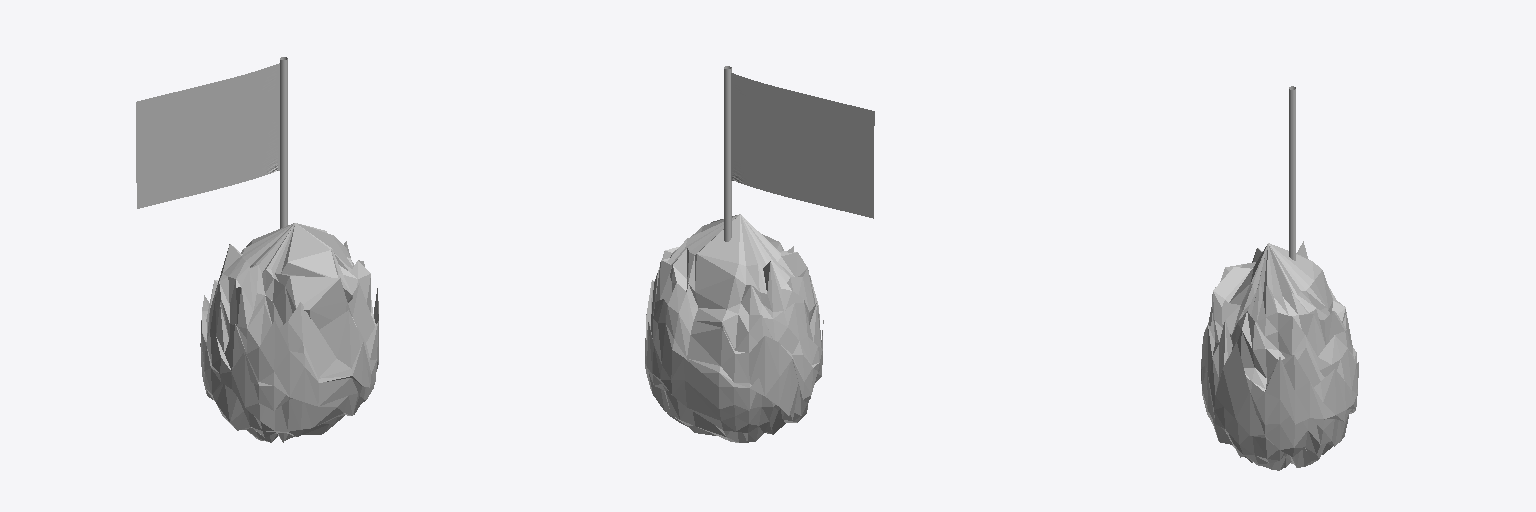
Rendered from rockflag.obj.
3 renders of one model, left to right at view 1: azimuth 30°, elevation 25°; view 2: azimuth 150°, elevation 25°; view 3: azimuth 270°, elevation 25°, orthographic.
Visible parts, largest first — view 1: Sphere, toy_psd, NurbsPath; view 2: Sphere, toy_psd, NurbsPath; view 3: Sphere, NurbsPath.
Boxes of the visible parts, x1,y1,x2,y2 form: Sphere: [200, 223, 378, 442]; toy_psd: [136, 63, 279, 208]; NurbsPath: [280, 57, 287, 228]; Sphere: [645, 214, 823, 442]; toy_psd: [731, 73, 874, 218]; NurbsPath: [724, 66, 731, 241]; Sphere: [1201, 241, 1358, 470]; NurbsPath: [1289, 86, 1295, 260].
Bounding box in the file's own units: 3.29 × 5.14 × 2.